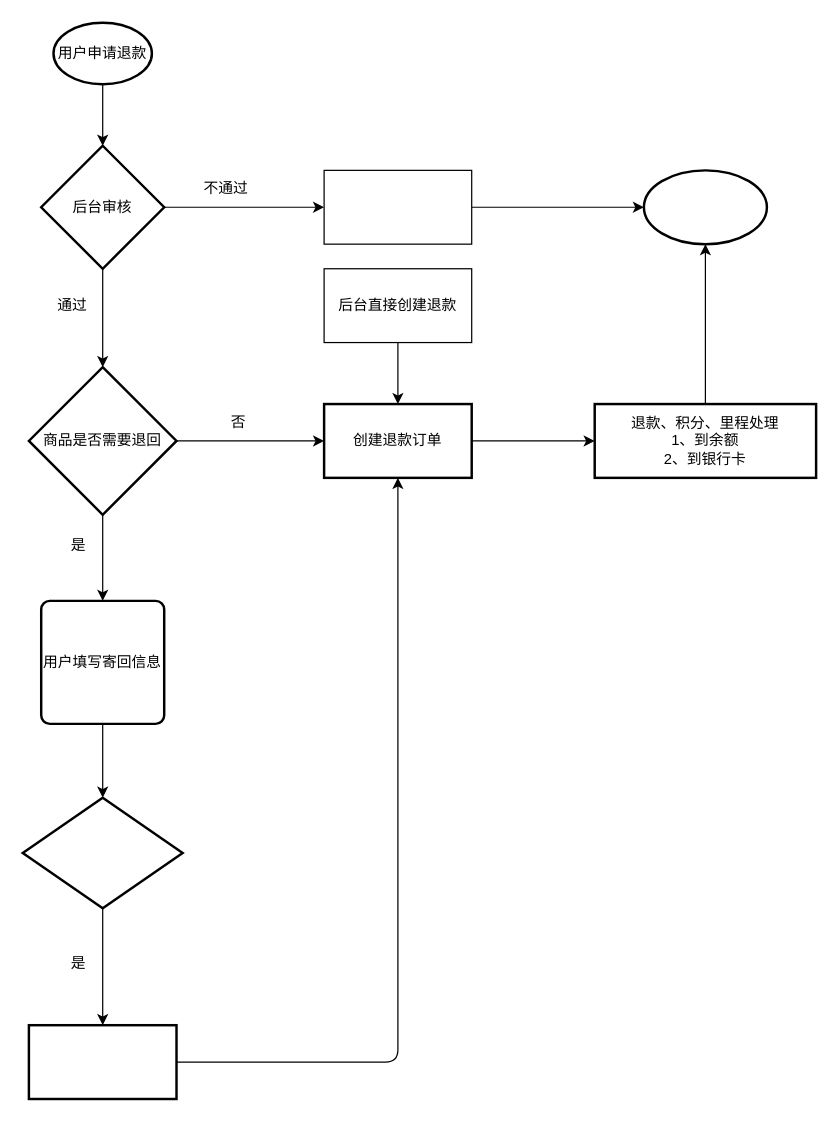
This 838x1121 diagram has some shape labels left out. Here are the shapes that lost their labels. From the top down, the box of each, then its label:
(323, 169, 472, 244): 取消退款申请
(642, 169, 768, 245): 结束
(21, 796, 183, 909): 确认是否收到货物
(27, 1023, 177, 1100): 后台确定收到的数量 填写确认信息
